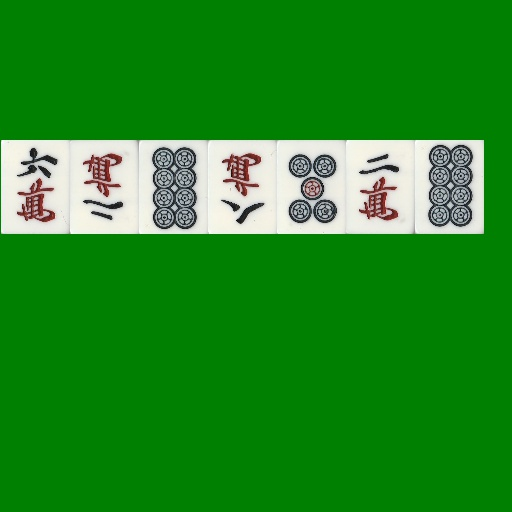2m: (70, 140, 139, 234), (346, 140, 415, 234)
5p: (277, 140, 346, 234)
6m: (1, 140, 70, 234)
8m: (208, 140, 277, 234)
8p: (139, 140, 208, 234), (415, 140, 484, 234)
